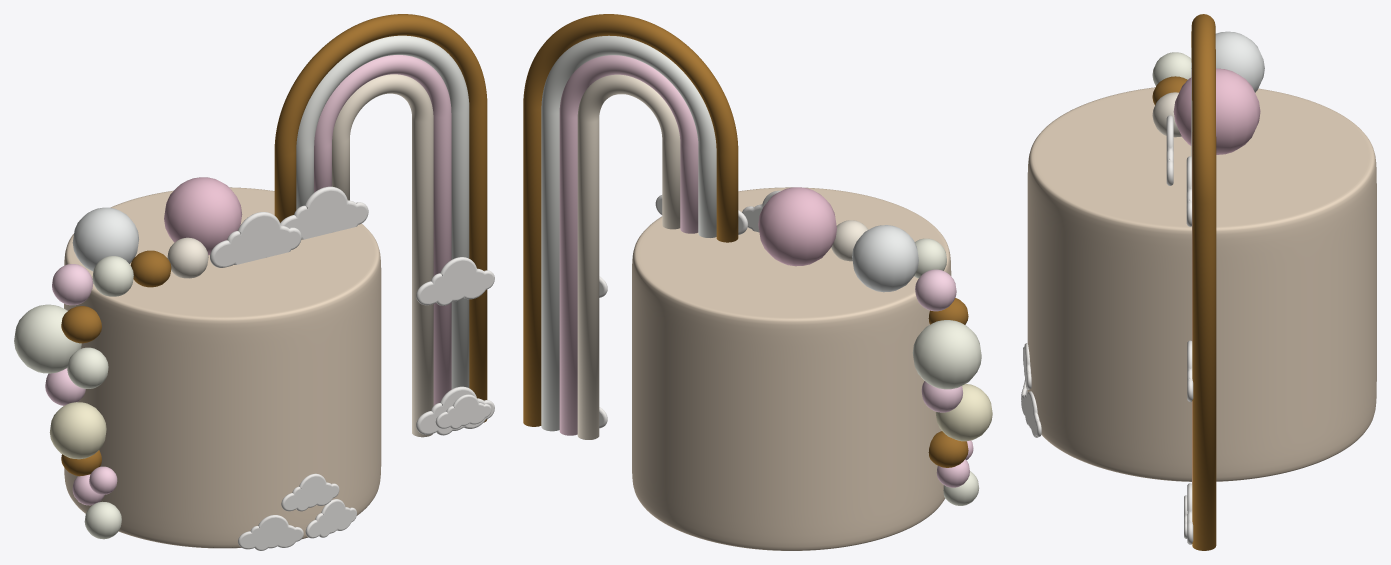
Rendered from Rainbow_1.glb.
3 renders of one model, left to right at view 1: azimuth 30°, elevation 25°; view 2: azimuth 150°, elevation 25°; view 3: azimuth 270°, elevation 25°, orthographic. The views are drawn at different scales.
Parts seen in each view (by area): view 1: Circle, Cylinder.011, Cylinder.010, Cylinder.012, Cylinder.009, Sphere, Sphere.008, Cloud2.007, Sphere.003, Cloud2.006, Sphere.010, Cloud2.005 (+16 smaller); view 2: Circle, Cylinder.011, Cylinder.010, Cylinder.012, Cylinder.009, Sphere, Sphere.008, Sphere.003, Sphere.010, Sphere.005, Sphere.011, Sphere.001 (+5 smaller); view 3: Circle, Cylinder.011, Sphere, Sphere.003, Sphere.004, Sphere.001, Cloud2.001, Cloud2.007, Sphere.002.
Boxes of the visible parts, x1,y1,x2,y2 form: Circle: (64, 187, 381, 548); Cylinder.011: (274, 14, 487, 422); Cylinder.010: (296, 35, 469, 388); Cylinder.012: (332, 74, 433, 437); Cylinder.009: (314, 55, 451, 405); Sphere: (164, 177, 242, 255); Sphere.008: (14, 304, 81, 373); Cloud2.007: (210, 212, 301, 267); Sphere.003: (72, 207, 138, 271); Cloud2.006: (280, 186, 368, 239); Sphere.010: (49, 402, 106, 459); Cloud2.005: (416, 257, 494, 305); Circle: (632, 187, 951, 550); Cylinder.011: (523, 14, 738, 426); Cylinder.010: (541, 35, 716, 431); Cylinder.012: (577, 74, 680, 439); Cylinder.009: (559, 55, 698, 435); Sphere: (758, 187, 836, 266); Sphere.008: (912, 320, 981, 389); Sphere.003: (852, 225, 918, 292); Sphere.010: (935, 384, 992, 441); Sphere.005: (915, 269, 956, 311); Sphere.011: (928, 431, 968, 467); Sphere.001: (831, 220, 868, 261); Circle: (1027, 87, 1376, 481); Cylinder.011: (1191, 14, 1216, 550); Sphere: (1173, 68, 1260, 154); Sphere.003: (1191, 31, 1264, 92); Sphere.004: (1152, 52, 1191, 85); Sphere.001: (1152, 92, 1181, 137); Cloud2.001: (1021, 391, 1041, 437); Cloud2.007: (1166, 115, 1173, 185); Sphere.002: (1152, 76, 1187, 105).
Size of the model in its own units: 0.25 by 0.2221 by 0.1518.
